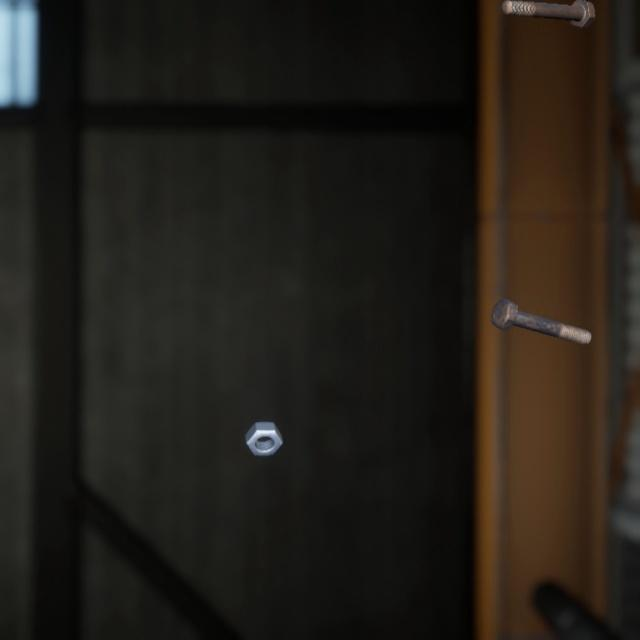bolt: (487, 275, 596, 331), (496, 0, 599, 25)
nut: (240, 396, 287, 439)
